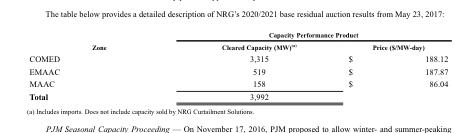table: (28, 29, 423, 101)
table column: (163, 29, 321, 101), (28, 29, 163, 101), (321, 29, 423, 101)
table column header: (28, 29, 423, 51)
table row: (28, 51, 423, 64), (28, 64, 423, 77), (28, 39, 423, 51), (28, 77, 423, 89), (28, 89, 423, 101), (28, 29, 423, 39)
table spanning cell: (28, 29, 163, 51), (163, 29, 423, 39)
